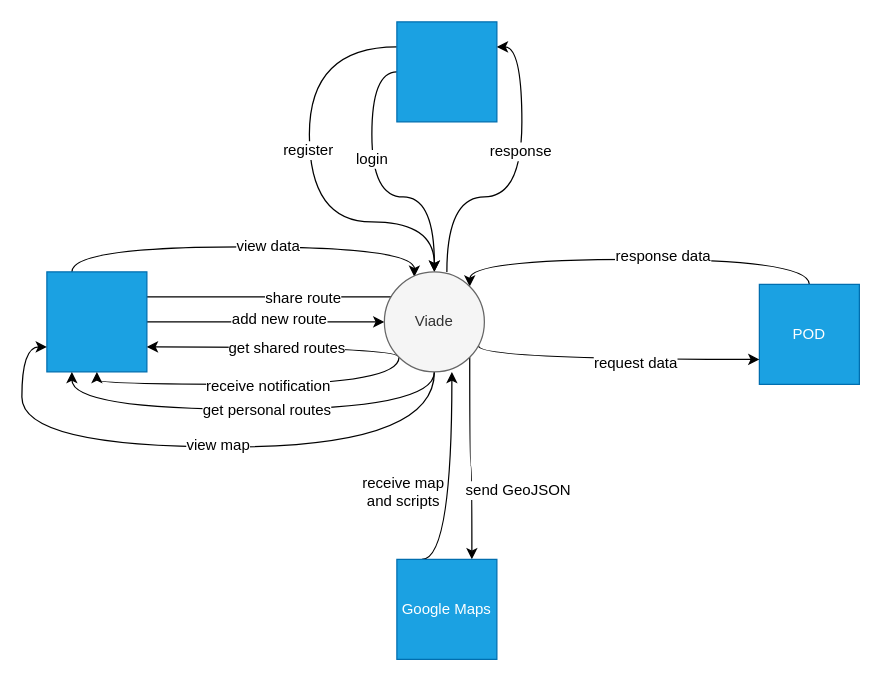
The diagram is 881 pixels wide and 681 high, and some of its shapes have lost their labels. The shapes that lost their labels are listed below. From the top down, each one's centre as x and y in pixels, then its label:
At (x=446, y=71): "Anonymous User".
At (x=96, y=321): "Logged User".
